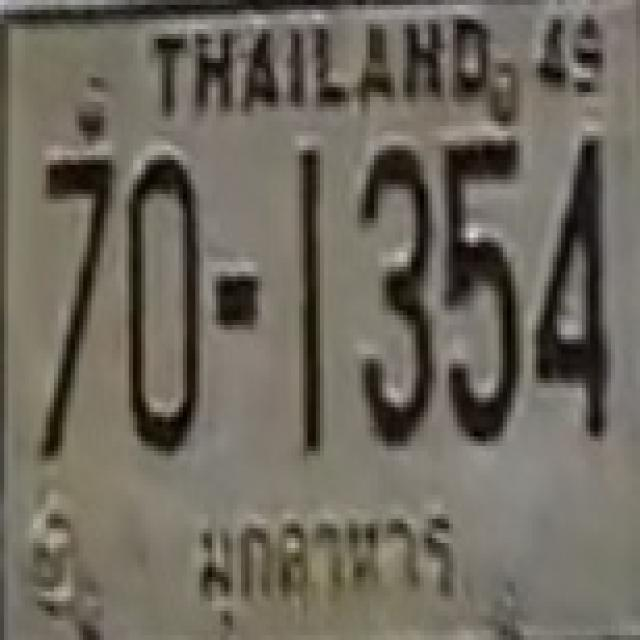1: (295, 146, 320, 368), (295, 143, 320, 347)
3: (356, 160, 434, 441)
4: (532, 131, 607, 436)
5: (442, 136, 518, 305)
7: (42, 155, 112, 315)
MDH: (179, 486, 475, 637)
